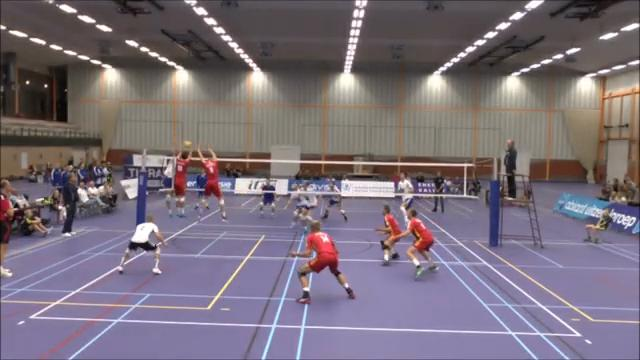attacco: (157, 143, 179, 221)
muro: (195, 142, 227, 222), (166, 139, 193, 218)
